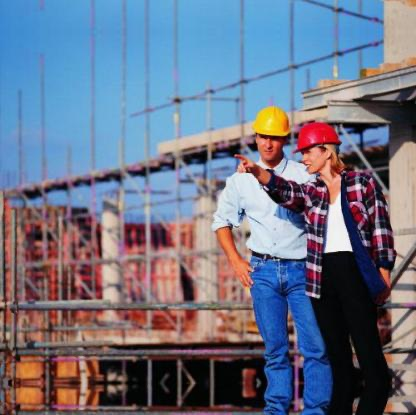Safety Helmet: (292, 117, 346, 182), (246, 102, 296, 171)
